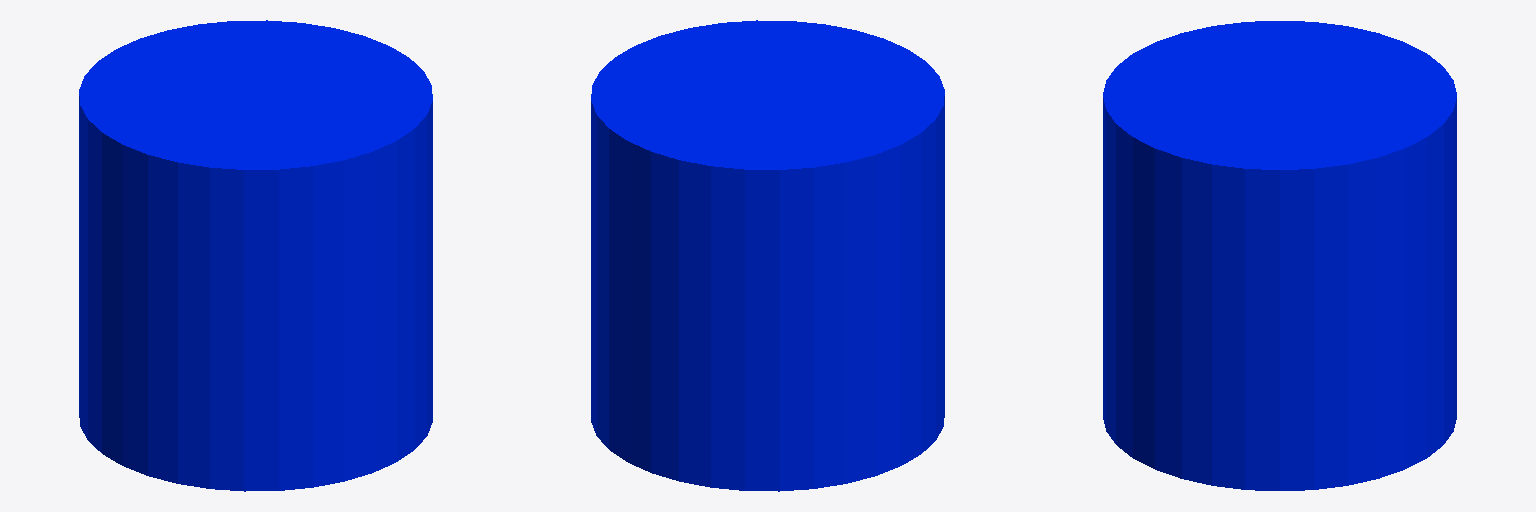
URDF robot description (pentaxis):
<?xml version="1.0" ?>
<robot name="pentaxis" xmlns:xacro="http://www.ros.org/wiki/xacro">
  <link name="base_link">
    <visual>
      <geometry>
        <cylinder length="0.1" radius="0.05"/>
      </geometry>
      <origin rpy="0 0 0" xyz="0 0 0"/>
      <material name="blue1">
        <color rgba="0 0.2 1 1"/>
      </material>
    </visual>
  </link>
</robot>

--- Facts derived from the render (not from the file) ---
Views: 3 orthographic renders of the robot side by side, from view 1: azimuth 30°, elevation 25°; view 2: azimuth 150°, elevation 25°; view 3: azimuth 270°, elevation 25°.
Robot: pentaxis — 1 links, 0 joints (none); root link base_link; default pose: all joints at 0.
Visible links, largest first — view 1: base_link; view 2: base_link; view 3: base_link.
Boxes of the visible links, x1,y1,x2,y2 form: base_link: [79, 20, 432, 491]; base_link: [591, 20, 944, 491]; base_link: [1103, 21, 1456, 490].
Bounding box of the posed robot: 0.1 × 0.1 × 0.1 m (x, y, z).
Geometry: primitives only (box / cylinder / sphere), no mesh files.